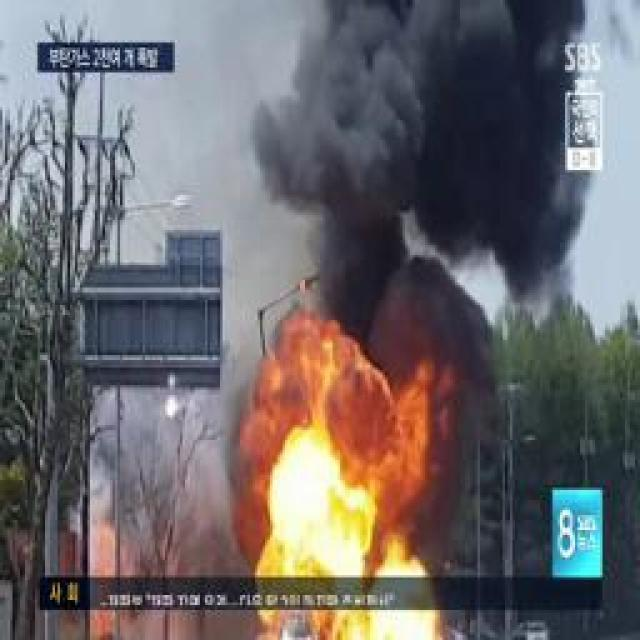Fire: (258, 384, 374, 574), (264, 612, 442, 640)
